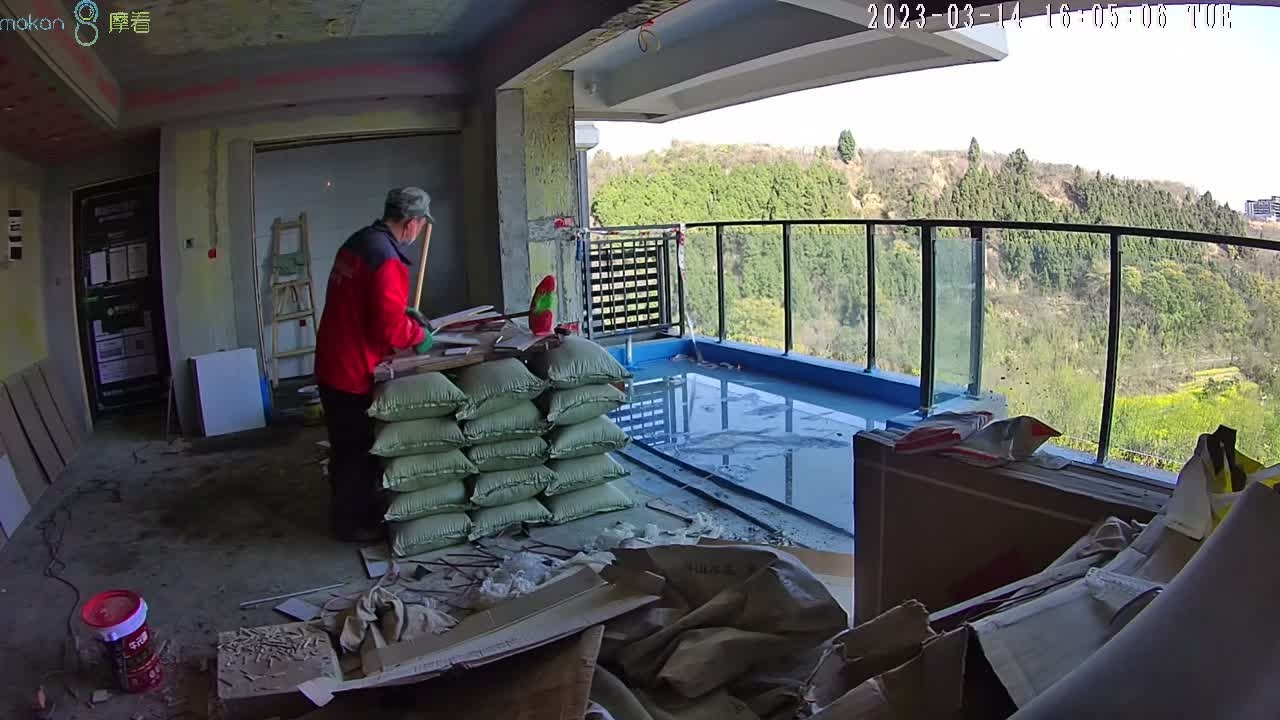people: (313, 186, 436, 538)
window: (668, 219, 1280, 504)
